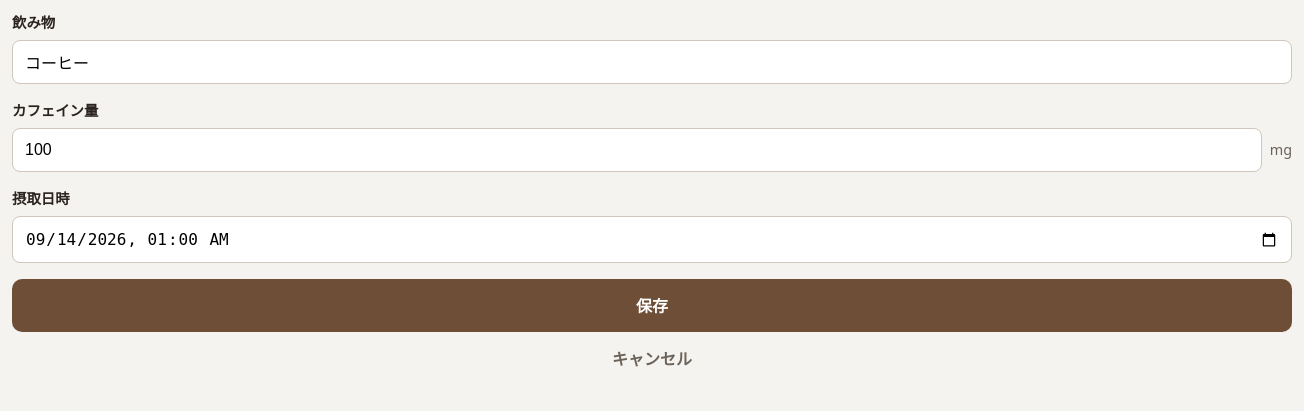
Test: EditRecordForm › TEST-615: バリデーションエラー時（飲み物未入力）は保存されない
Clear the field labelled "飲み物": {"x": 652, "y": 62} [12,40,1292,84]
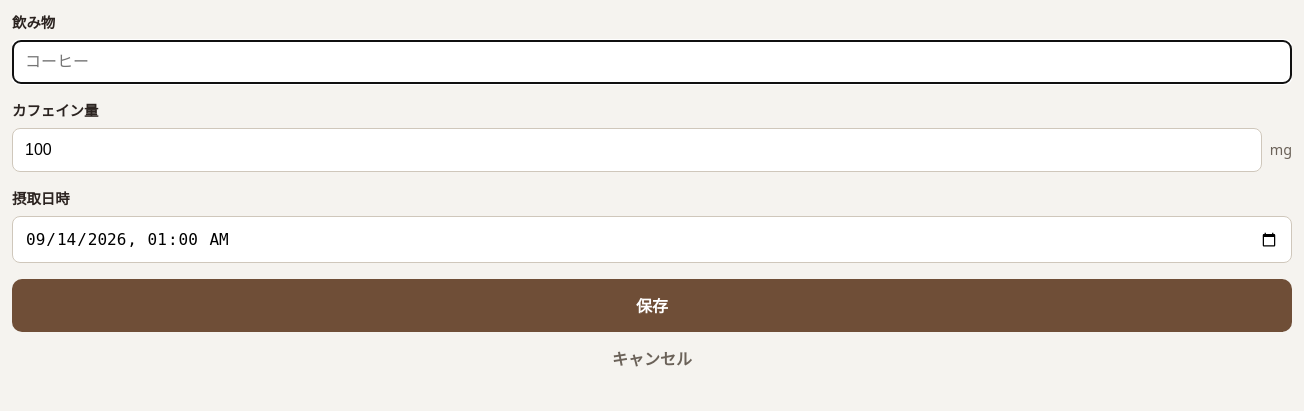
Click the button "保存": {"x": 652, "y": 305} [12,279,1292,332]
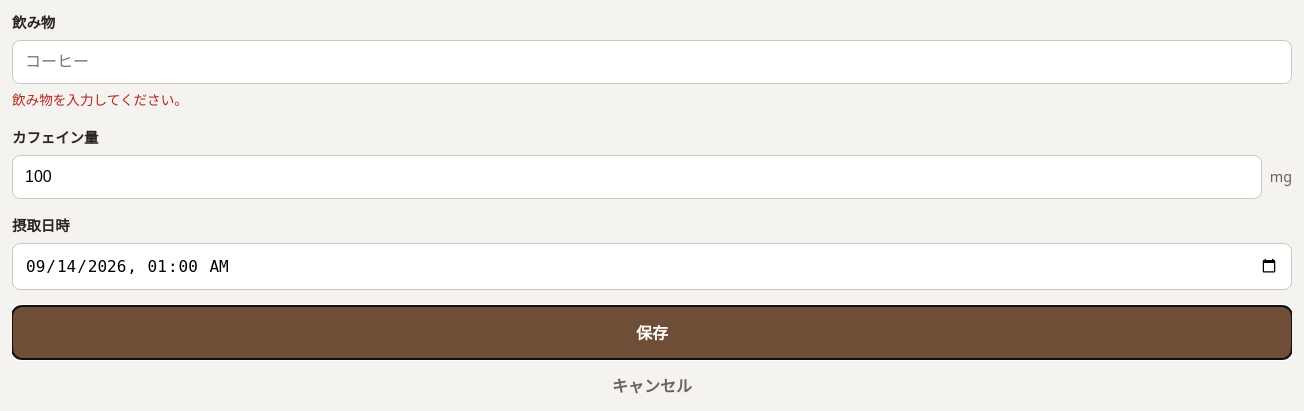
Expected: the text "飲み物を入力してください。" is shown, [12,90,188,109]
